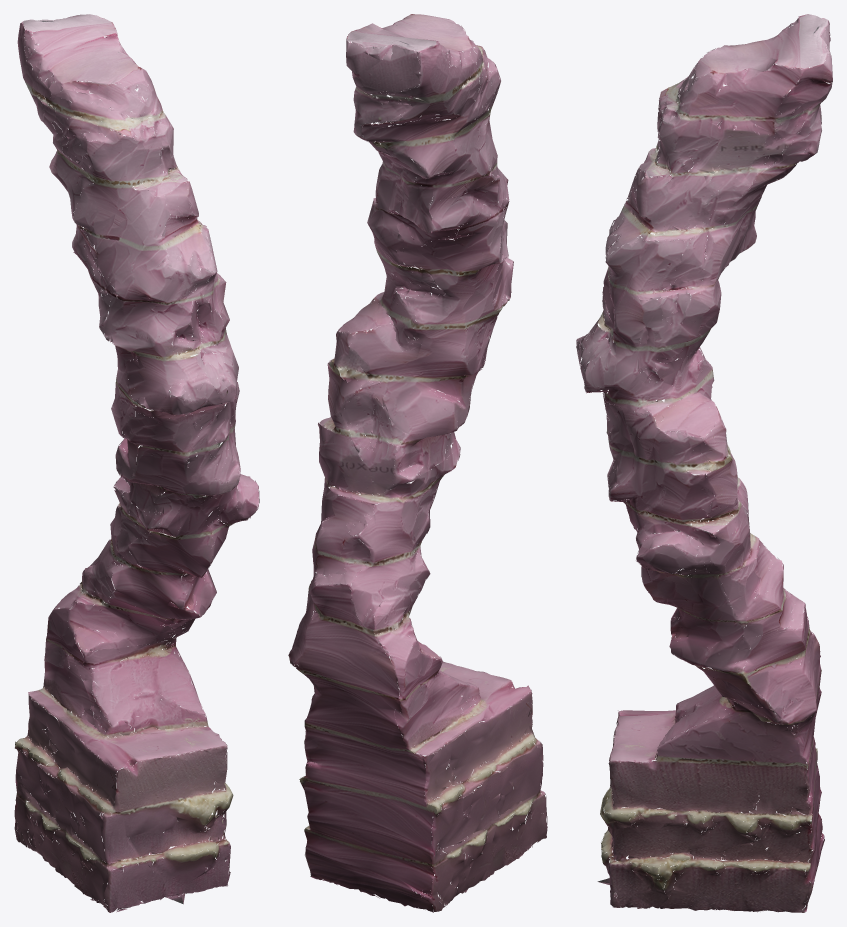
File: 03_pink.glb
3 renders of one model, left to right at view 1: azimuth 30°, elevation 25°; view 2: azimuth 150°, elevation 25°; view 3: azimuth 270°, elevation 25°, orthographic. The views are drawn at different scales.
Visible parts, largest first — view 1: Mesh_0_Part_0; view 2: Mesh_0_Part_0; view 3: Mesh_0_Part_0.
Part boxes in pixels (x1,y1,x2,y2): Mesh_0_Part_0: (14,14,259,912); Mesh_0_Part_0: (288,14,547,912); Mesh_0_Part_0: (576,14,832,912).
Bounding box in the file's own units: 5.63 × 25.25 × 7.01.
1 material, 1 textured.
